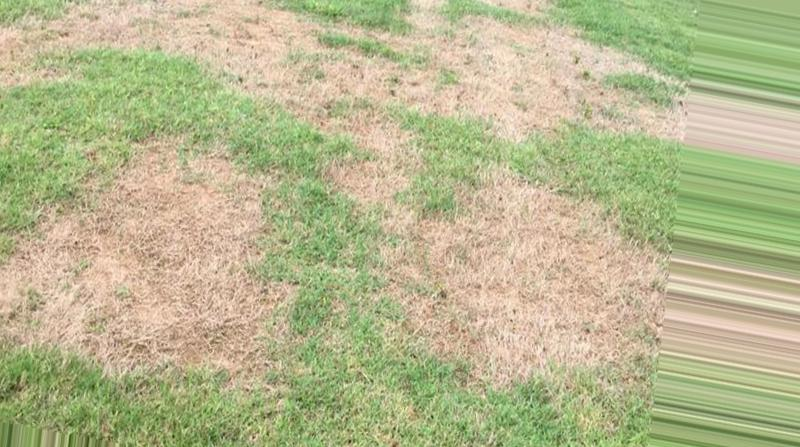patch: (71, 215, 246, 337), (433, 222, 588, 351), (442, 40, 591, 123), (147, 5, 288, 80), (308, 89, 393, 196), (116, 142, 245, 211), (351, 239, 424, 357), (16, 15, 96, 82), (326, 30, 410, 85), (477, 176, 547, 217)
